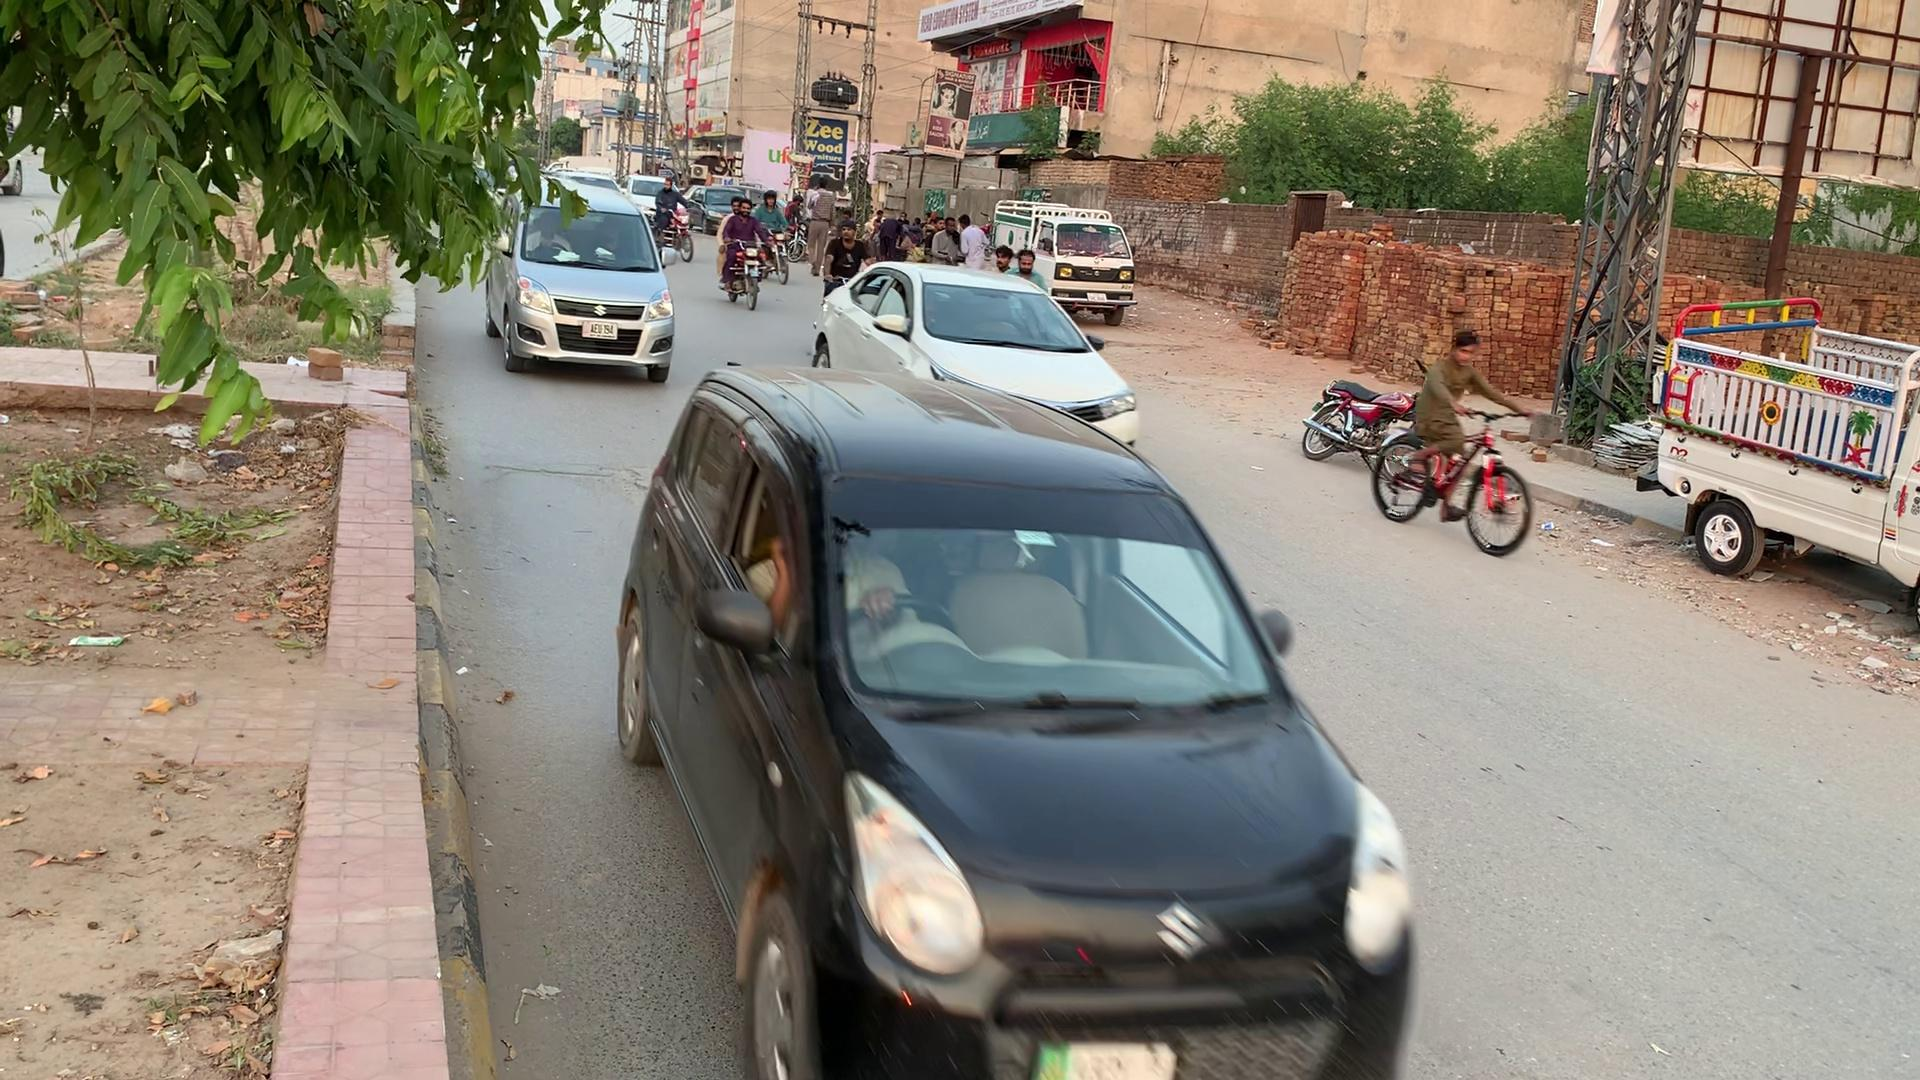windshield: (814, 456, 1298, 724), (924, 276, 1098, 349)
